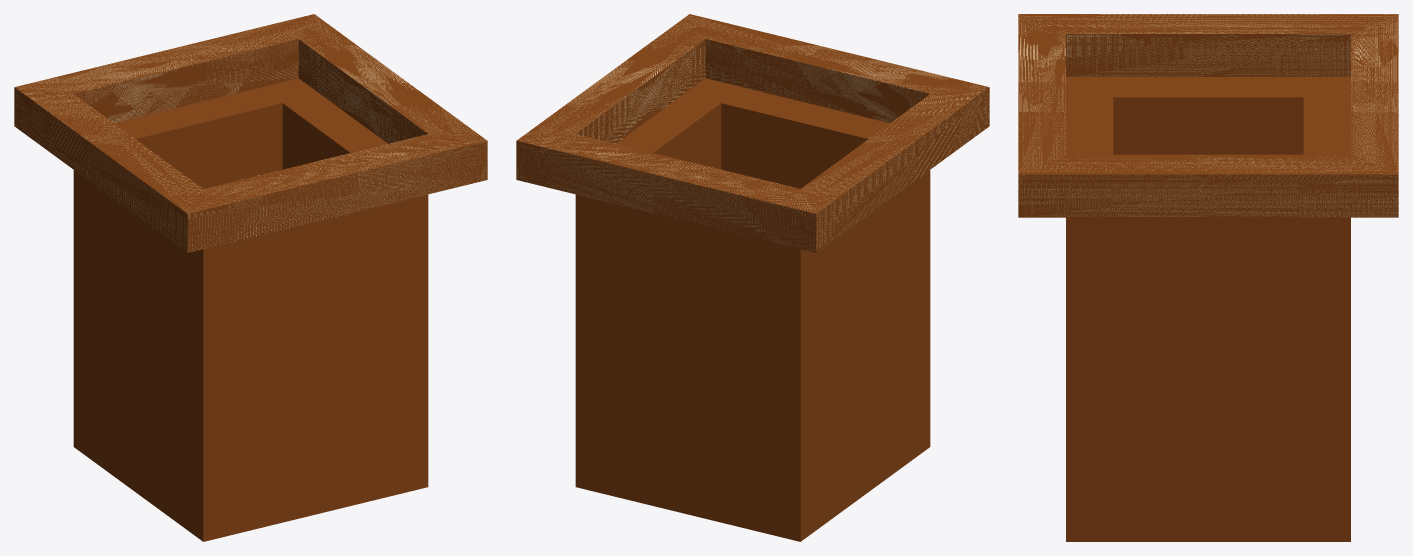
Rendered from chimney_top.fbx.
3 views of the same model, side by side, from view 1: azimuth 30°, elevation 25°; view 2: azimuth 150°, elevation 25°; view 3: azimuth 270°, elevation 25° (orthographic). The views are drawn at different scales.
Visible parts, largest first — view 1: Mesh1_Chimney3_1 Model; view 2: Mesh1_Chimney3_1 Model; view 3: Mesh1_Chimney3_1 Model.
Boxes of the visible parts, x1,y1,x2,y2 form: Mesh1_Chimney3_1 Model: [14, 14, 487, 541]; Mesh1_Chimney3_1 Model: [516, 14, 989, 541]; Mesh1_Chimney3_1 Model: [1018, 14, 1398, 541].
Bounding box in the file's own units: 0.4 × 0.45 × 0.4.
